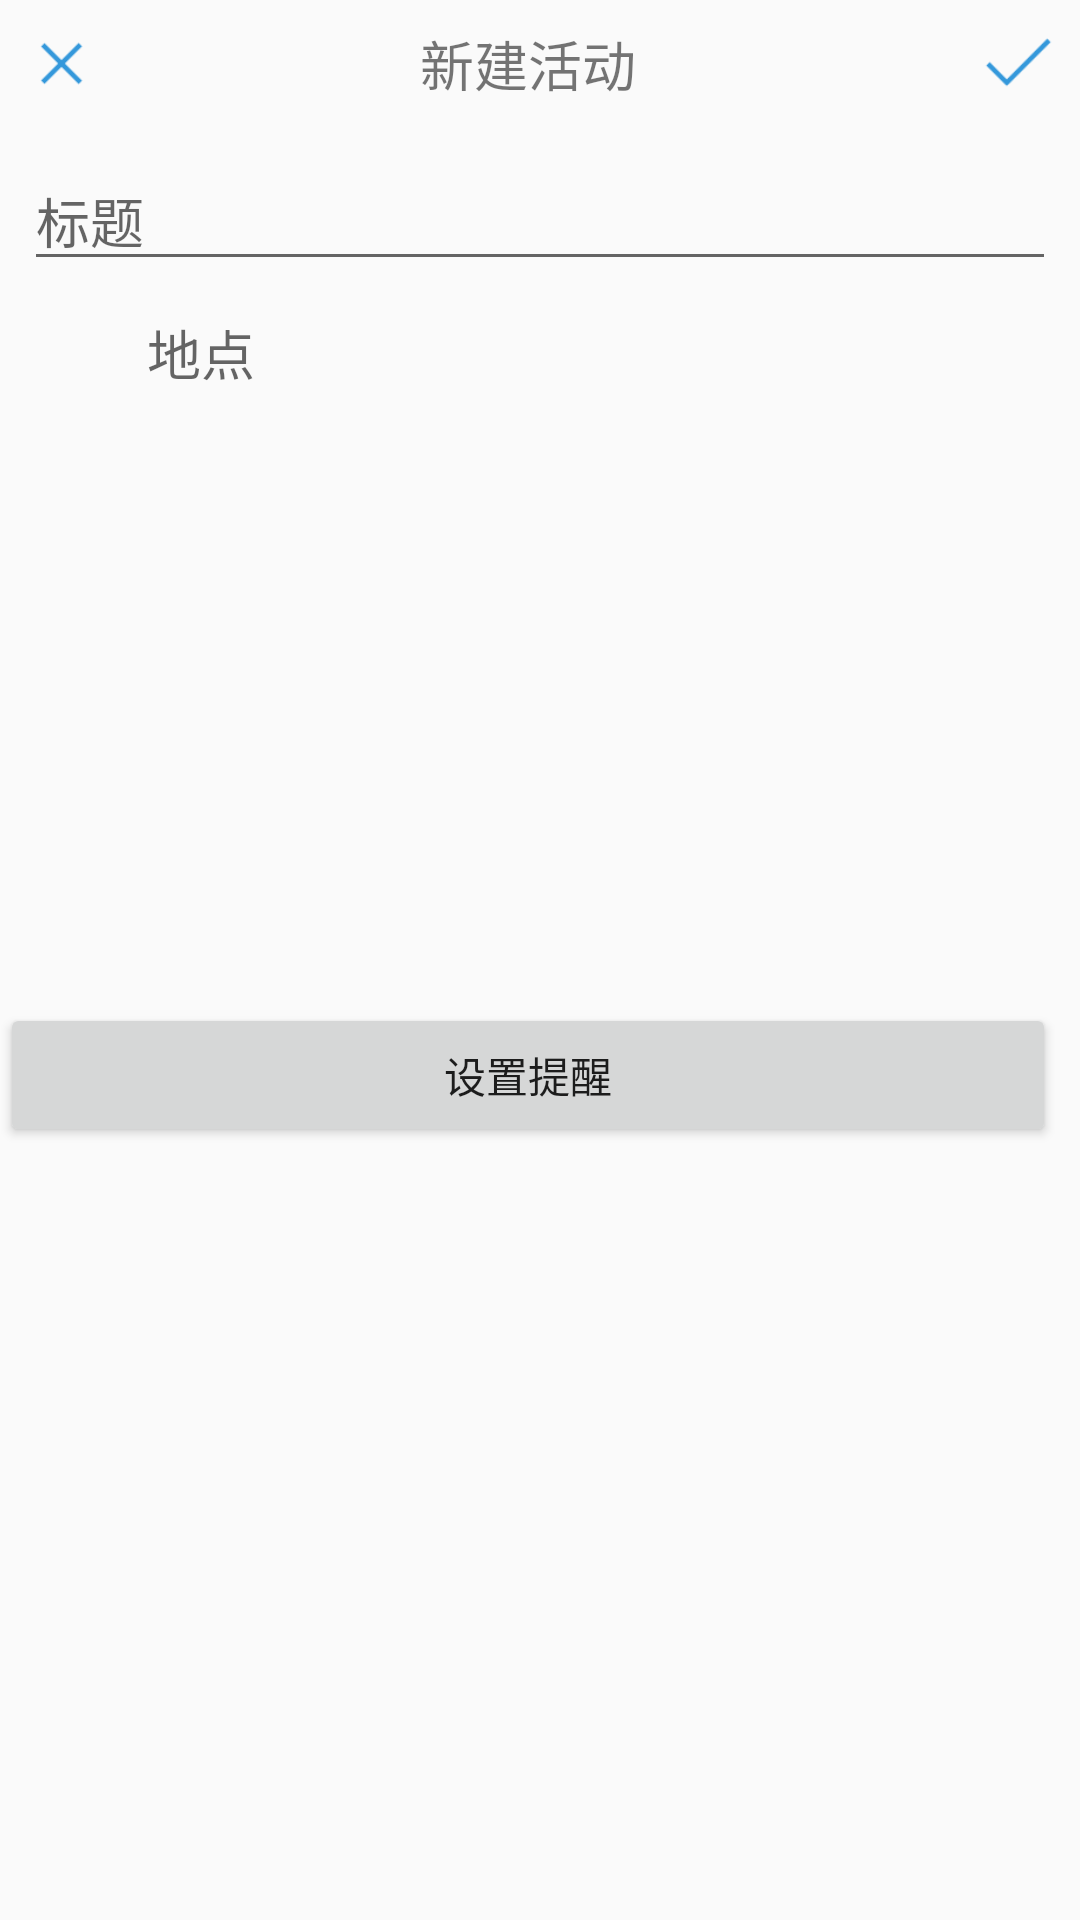

Named icons in this screenshot (1080*1920) and their centers, (x,y):
yes: (1018,62)
